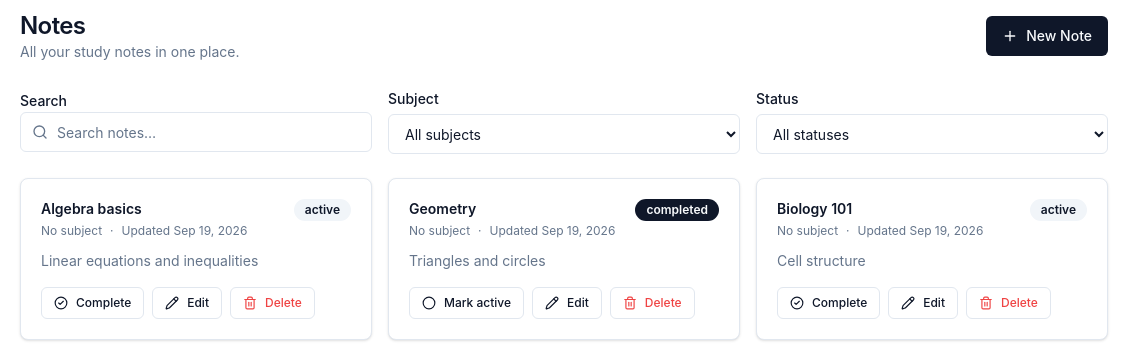
Scenario: Search and filters › clears search to show all notes
Step 1. Type "algebra" into the search field with placeholder "Search notes…" → [196, 132], box [20,112,372,152]
Wait 300 ms
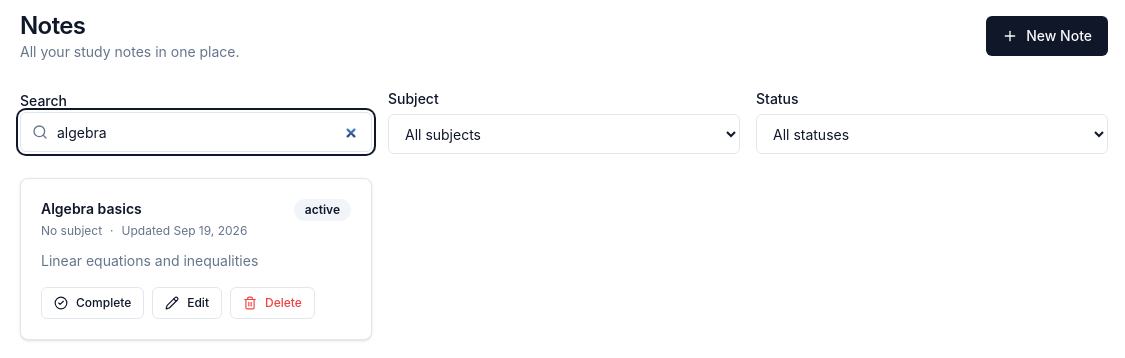
Result: the link "Geometry" is gone
Step 2. Clear the search field with placeholder "Search notes…" → [196, 132], box [20,112,372,152]
Wait 300 ms
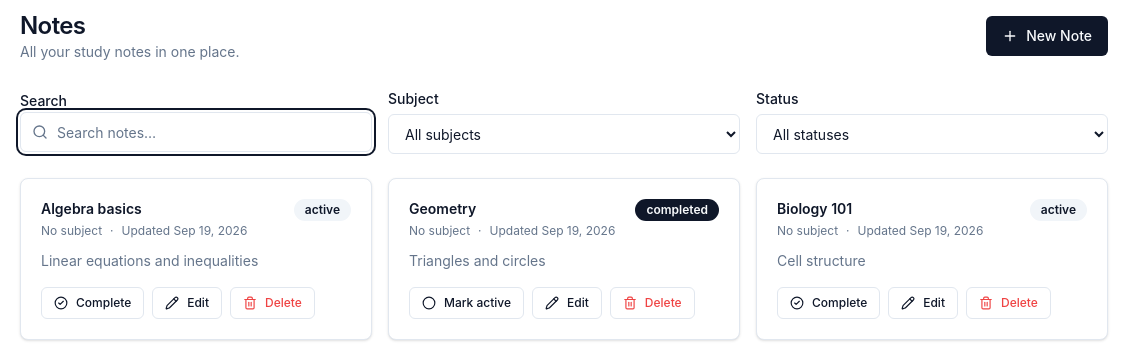
Expected: the link "Algebra basics" is shown, [41,200,142,217]
Result: the link "Geometry" is shown at [409,200,476,217]
Result: the link "Biology 101" is shown at [777,200,852,217]
